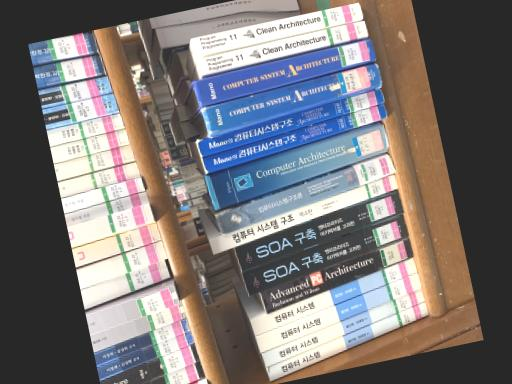book-spine: (205, 120, 389, 208), (209, 173, 398, 254), (215, 153, 395, 234), (234, 189, 404, 271), (242, 214, 409, 295), (202, 61, 382, 135), (255, 272, 421, 351), (267, 301, 429, 380), (250, 257, 416, 334), (262, 288, 425, 366), (202, 102, 386, 171), (197, 88, 384, 155), (193, 37, 376, 105), (261, 237, 414, 313), (198, 20, 368, 74), (191, 1, 363, 53)
